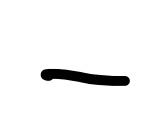minus: (41, 69, 130, 90)
